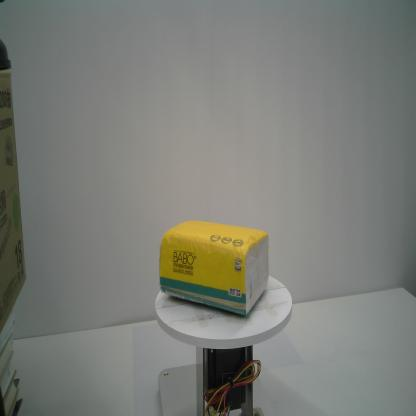Tissue: (159, 218, 269, 316)
